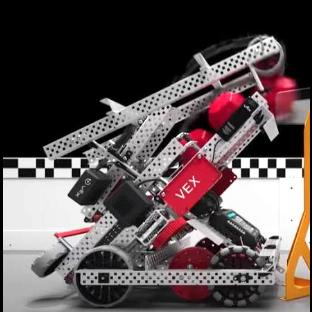Robot: (31, 35, 293, 307)
